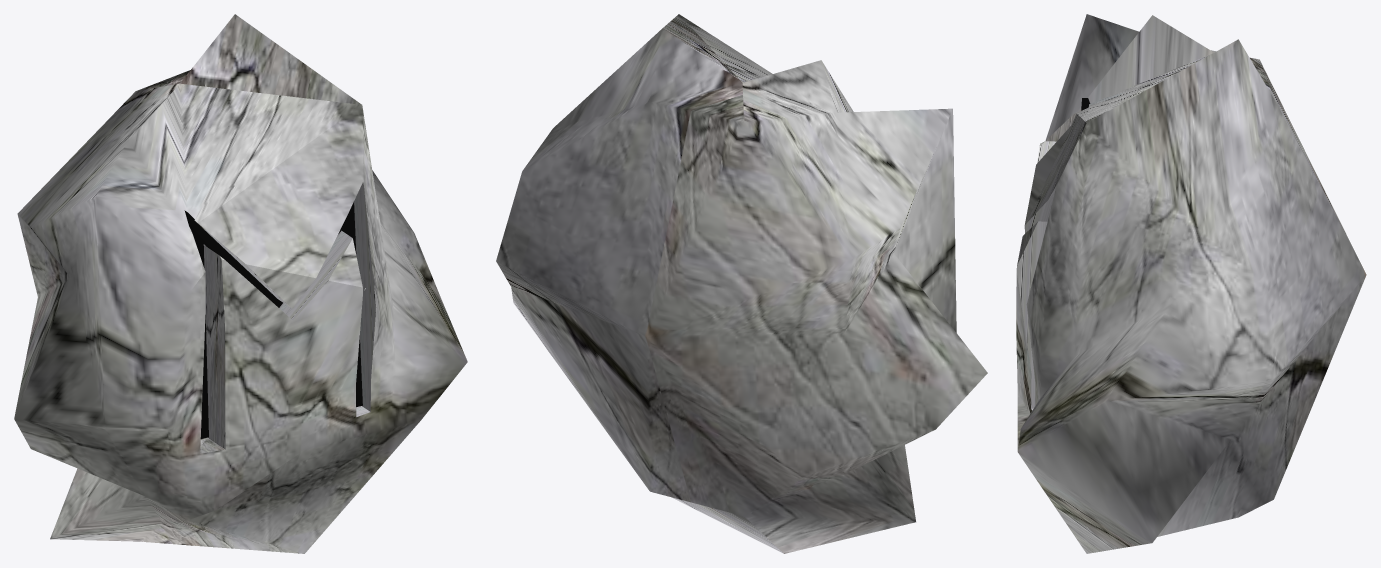
The model's file is Rune.obj.
3 views of the same model, side by side, from view 1: azimuth 30°, elevation 25°; view 2: azimuth 150°, elevation 25°; view 3: azimuth 270°, elevation 25° (orthographic). The views are drawn at different scales.
Visible parts, largest first — view 1: pPlatonic2, pasted__pCube1 group; view 2: pPlatonic2; view 3: pPlatonic2.
Part boxes in pixels (x1,y1,x2,y2): pPlatonic2: (14, 14, 467, 553); pasted__pCube1 group: (184, 202, 362, 438); pPlatonic2: (496, 14, 987, 553); pPlatonic2: (1016, 14, 1366, 553).
Bounding box in the file's own units: 5.77 × 6.26 × 3.8.
2 materials, 1 textured.
